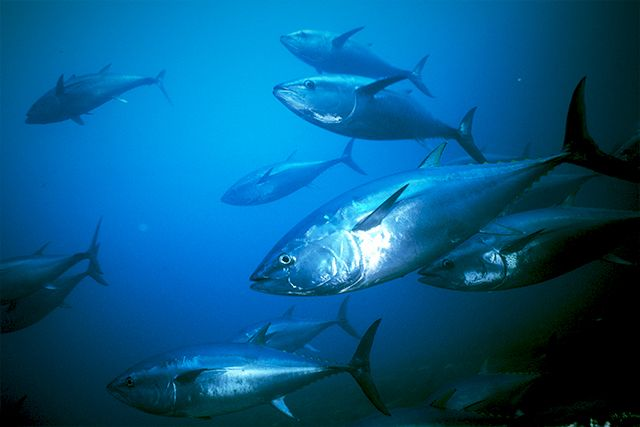Bluefina Tuna: (227, 130, 604, 305), (100, 327, 398, 420)
